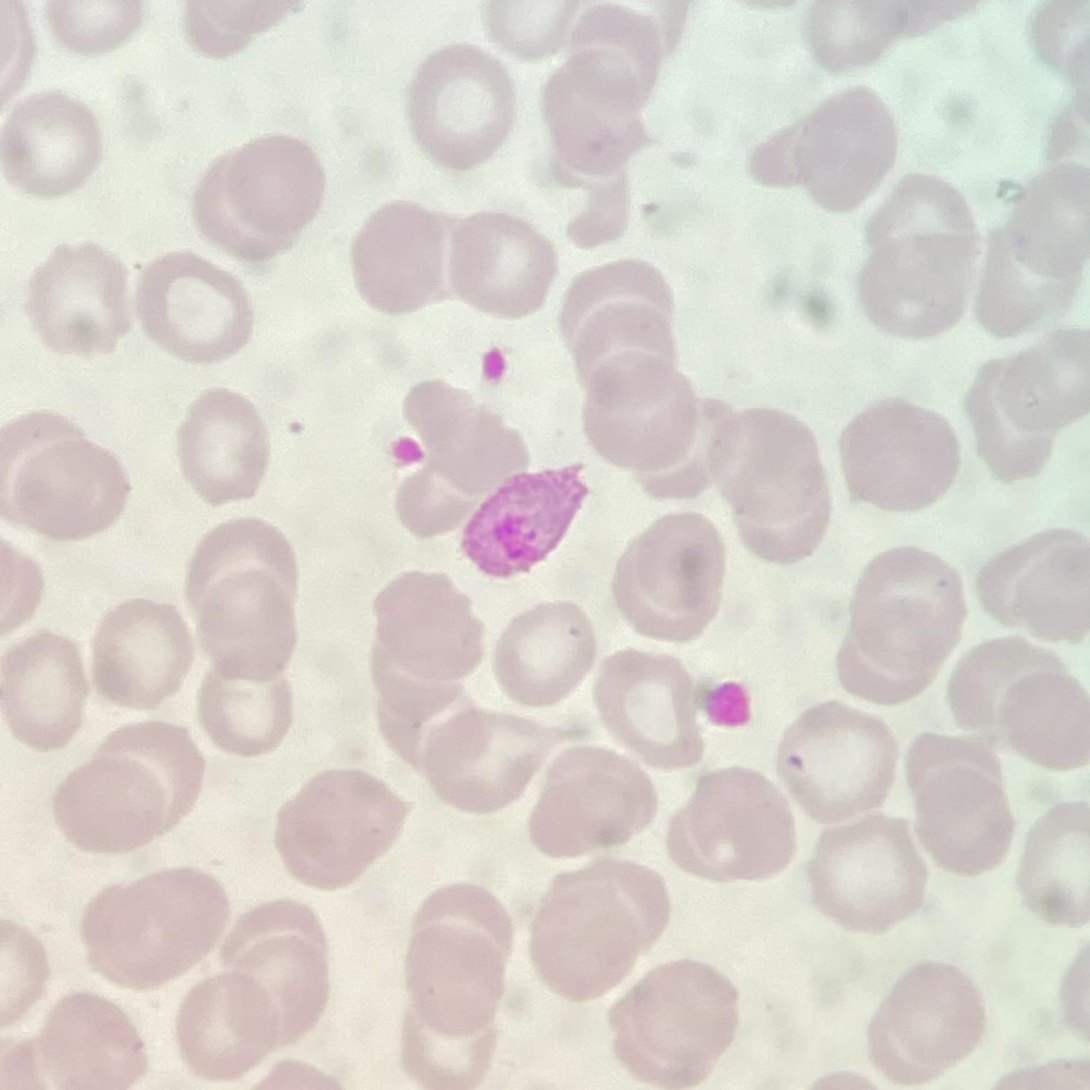Infected: (464, 466, 591, 582)
Uninfected: (416, 706, 581, 813), (81, 868, 225, 986), (853, 170, 981, 295), (849, 548, 972, 670), (839, 395, 962, 515), (404, 44, 520, 171), (528, 880, 643, 1008), (806, 811, 926, 933), (772, 698, 897, 815), (213, 930, 335, 1046), (371, 565, 488, 685), (856, 230, 975, 345), (131, 251, 252, 364), (686, 761, 801, 878), (25, 244, 138, 362), (581, 357, 704, 465), (619, 959, 742, 1067), (595, 648, 706, 767), (944, 629, 1069, 733), (86, 593, 197, 710), (710, 407, 824, 520), (17, 436, 136, 538), (172, 973, 283, 1082), (198, 565, 298, 683), (571, 294, 683, 398), (284, 766, 397, 868), (495, 598, 597, 710), (53, 761, 174, 855), (908, 765, 1010, 876), (177, 383, 268, 507), (457, 206, 555, 320), (402, 923, 499, 1038), (0, 89, 105, 195), (999, 165, 1090, 287), (227, 132, 331, 237), (806, 82, 894, 203), (0, 632, 90, 750), (397, 990, 501, 1090), (194, 658, 296, 759), (351, 201, 449, 306), (889, 959, 985, 1063), (636, 507, 729, 606), (1019, 801, 1090, 924)
